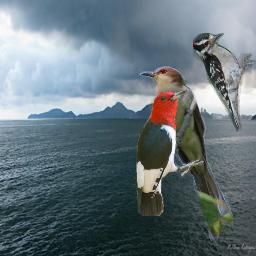Cuckoo: (140, 66, 233, 243)
Woodpecker: (135, 89, 204, 216), (193, 33, 256, 132)
